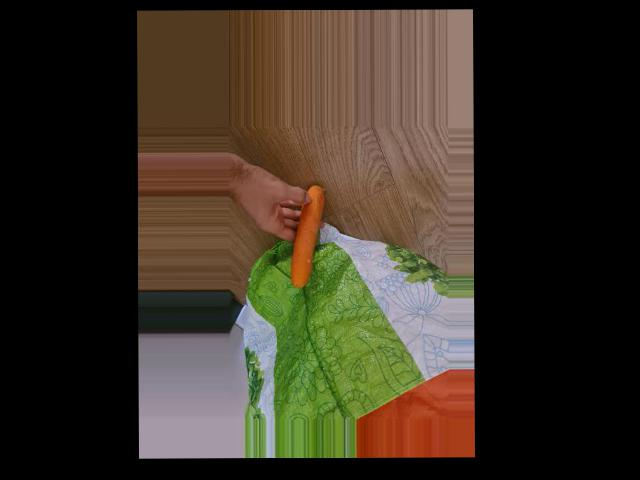carrot: (294, 182, 326, 285)
